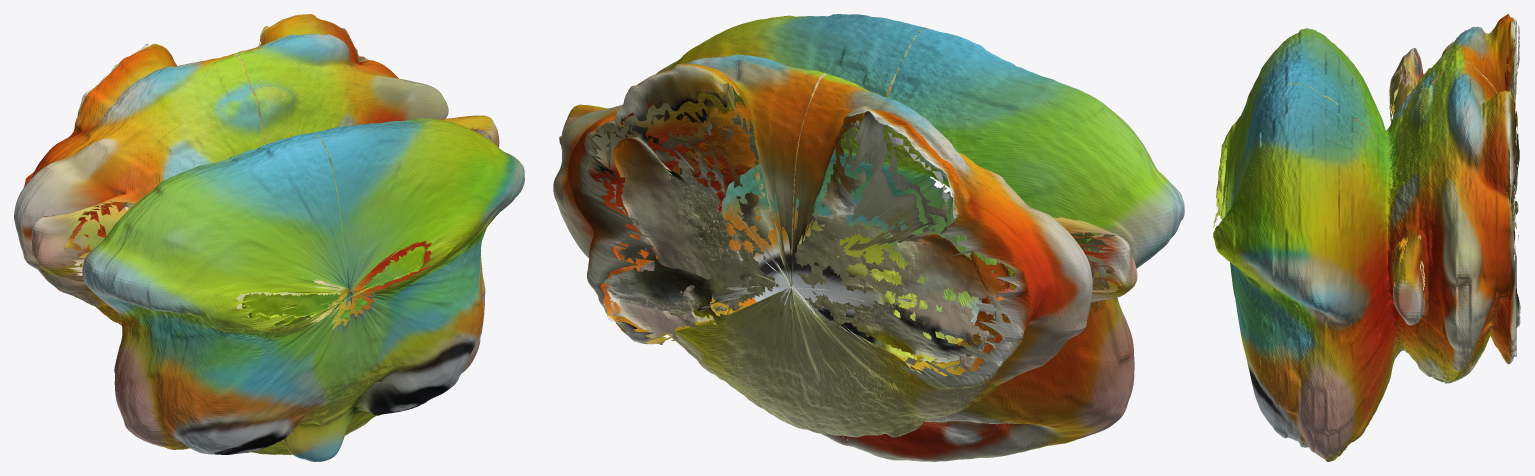
File: mesh_inpaint.glb
The picture shows the model from 3 angles, left to right: view 1: azimuth 30°, elevation 25°; view 2: azimuth 150°, elevation 25°; view 3: azimuth 270°, elevation 25°; orthographic projection. The views are drawn at different scales.
Parts seen in each view (by area): view 1: ipn, fill; view 2: ipn, fill; view 3: ipn, fill.
Part boxes in pixels (left/top/right/bottom): ipn: left=14, top=14, right=524, bottom=461; fill: left=50, top=44, right=481, bottom=411; ipn: left=553, top=14, right=1184, bottom=461; fill: left=559, top=98, right=1109, bottom=440; ipn: left=1213, top=14, right=1516, bottom=461; fill: left=1218, top=25, right=1520, bottom=327.
Size of the model in its own units: 1.97 by 1.49 by 1.1.
2 materials, 1 textured.
